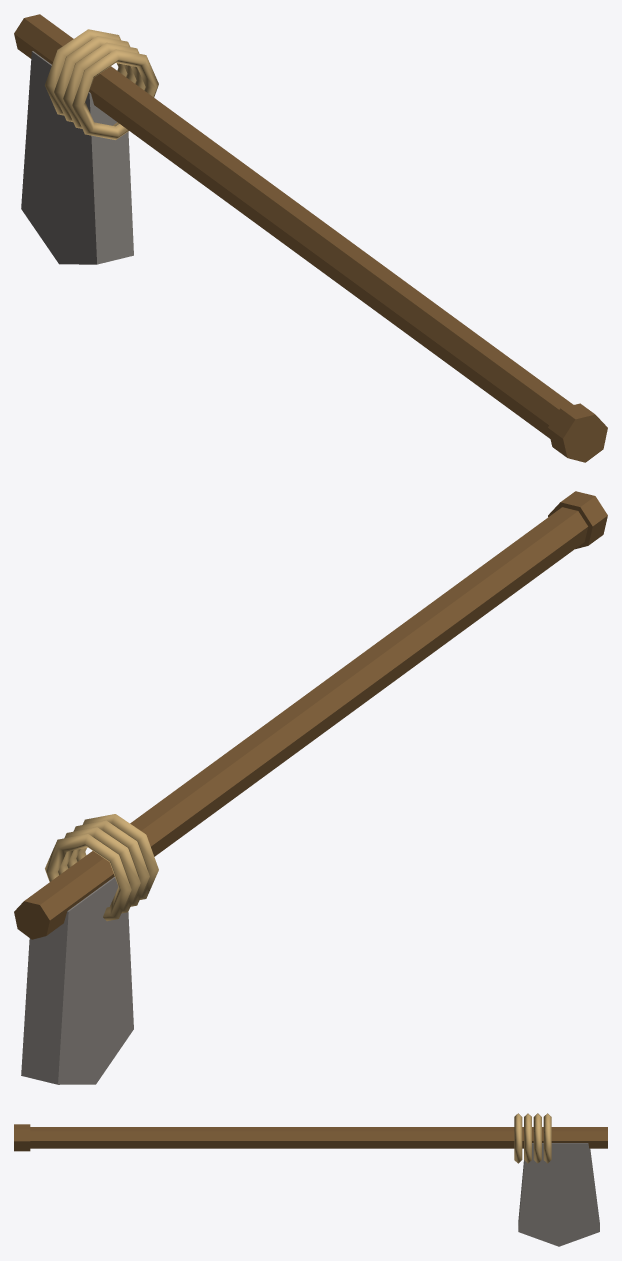
Rendered from Tool_Axe_Stone.fbx.
The picture shows the model from 3 angles, top to bottom: view 1: azimuth 30°, elevation 25°; view 2: azimuth 150°, elevation 25°; view 3: azimuth 270°, elevation 25°; orthographic projection. The views are drawn at different scales.
Parts seen in each view (by area): view 1: Tool_Axe_Stone; view 2: Tool_Axe_Stone; view 3: Tool_Axe_Stone.
Boxes of the visible parts, x1=… form: Tool_Axe_Stone: x1=14, y1=14, x2=607, y2=462; Tool_Axe_Stone: x1=14, y1=491, x2=607, y2=1084; Tool_Axe_Stone: x1=14, y1=1113, x2=607, y2=1246.
Bounding box in the file's own units: 0.033 × 0.0865 × 0.364.
